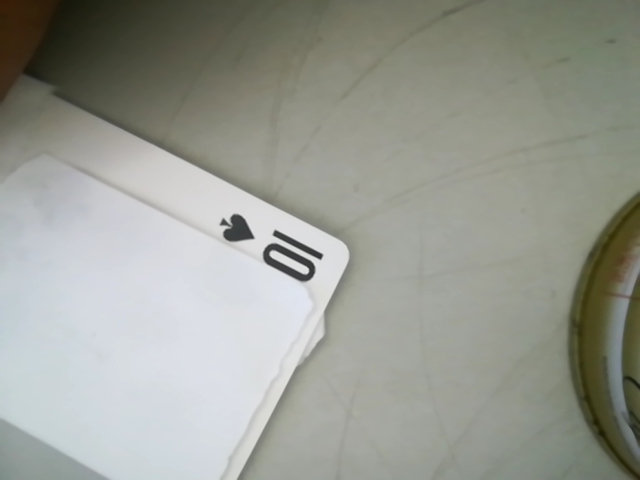ht 10: (219, 204, 343, 292)
